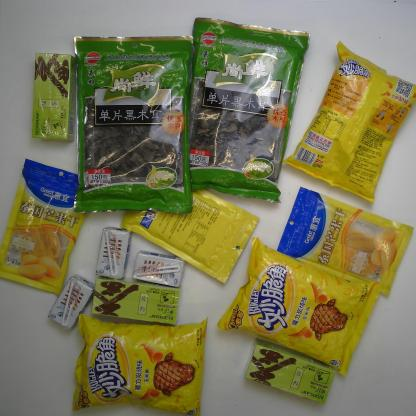Dried Food: (172, 16, 316, 201), (61, 32, 192, 217)
Dried Fruit: (120, 163, 262, 284), (0, 158, 99, 296), (278, 190, 406, 292)
Instant Drink: (238, 342, 339, 407), (29, 46, 80, 144), (85, 278, 179, 326)
Milk: (126, 247, 187, 292), (46, 274, 95, 330), (92, 226, 132, 283)
Puffed Food: (219, 238, 377, 378), (287, 42, 410, 201), (65, 314, 210, 412)
